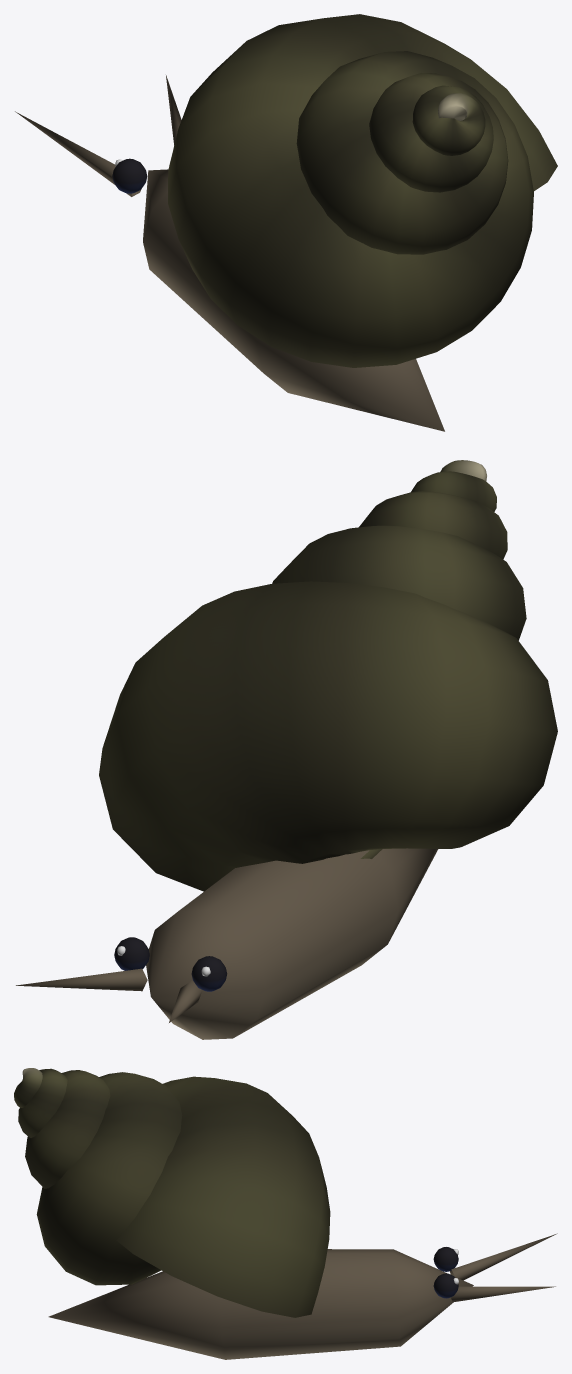
Rendered from RiverSnail.fbx.
The picture shows the model from 3 angles, top to bottom: view 1: azimuth 30°, elevation 25°; view 2: azimuth 150°, elevation 25°; view 3: azimuth 270°, elevation 25°; orthographic projection. The views are drawn at different scales.
Parts seen in each view (by area): view 1: RiverSnail; view 2: RiverSnail; view 3: RiverSnail.
Boxes of the visible parts, x1=… form: RiverSnail: x1=15, y1=14, x2=557, y2=431; RiverSnail: x1=16, y1=460, x2=557, y2=1039; RiverSnail: x1=14, y1=1068, x2=557, y2=1359.
Size of the model in its own units: 0.4452 by 0.4502 by 0.7785.
